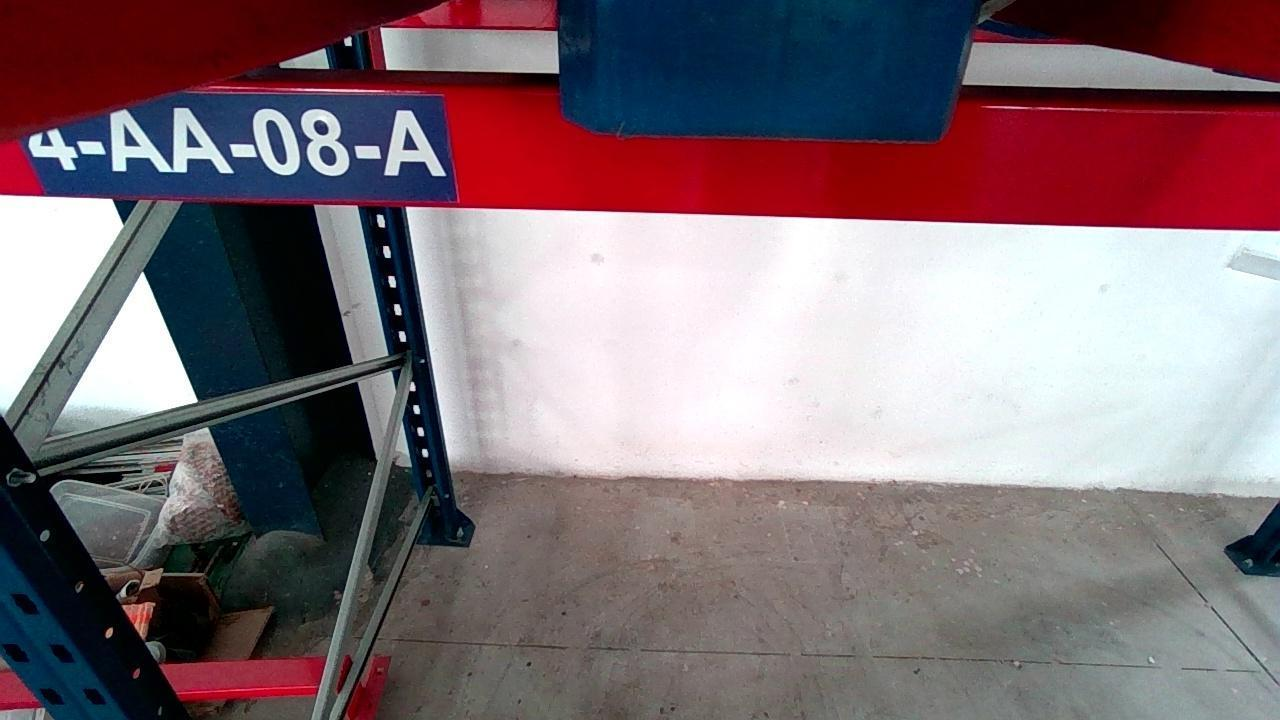h_rack: (0, 89, 1280, 229)
